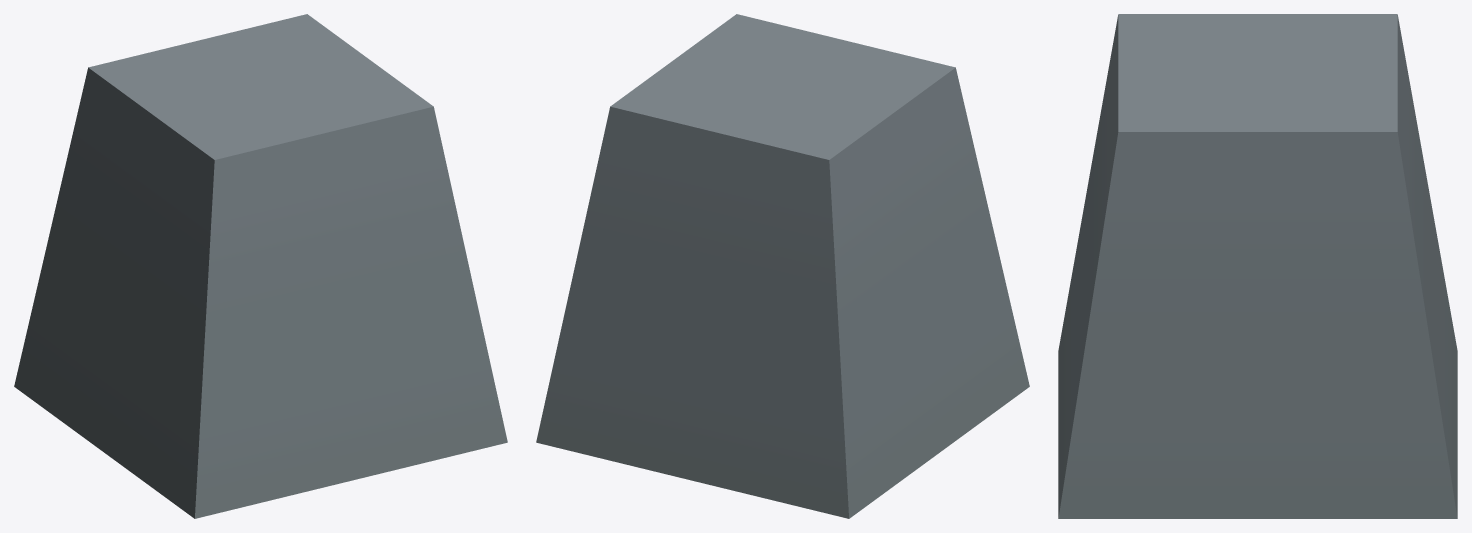
The model's file is Rock_2_A.glb.
3 views of the same model, side by side, from view 1: azimuth 30°, elevation 25°; view 2: azimuth 150°, elevation 25°; view 3: azimuth 270°, elevation 25° (orthographic). The views are drawn at different scales.
Visible parts, largest first — view 1: Rock_2_A_Color1; view 2: Rock_2_A_Color1; view 3: Rock_2_A_Color1.
Boxes of the visible parts, x1,y1,x2,y2 form: Rock_2_A_Color1: (14,14,507,518); Rock_2_A_Color1: (536,14,1029,518); Rock_2_A_Color1: (1058,14,1457,518).
Size of the model in its own units: 0.2156 by 0.2156 by 0.2156.
1 material, 1 textured.
